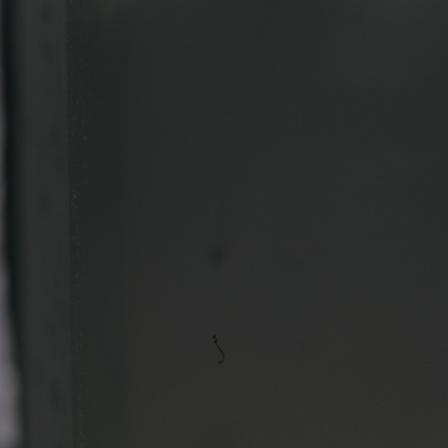Jentik-Nyamuk: (207, 327, 233, 367)
